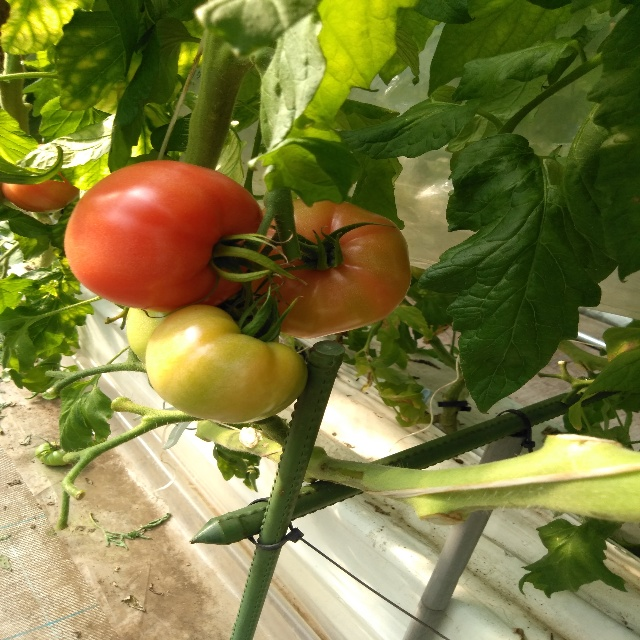b_fully_ripened: (63, 161, 263, 314)
b_green: (146, 305, 309, 424)
b_half_ripened: (244, 198, 411, 340), (0, 172, 81, 214)
